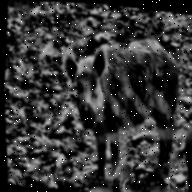boar: (50, 14, 192, 192)
